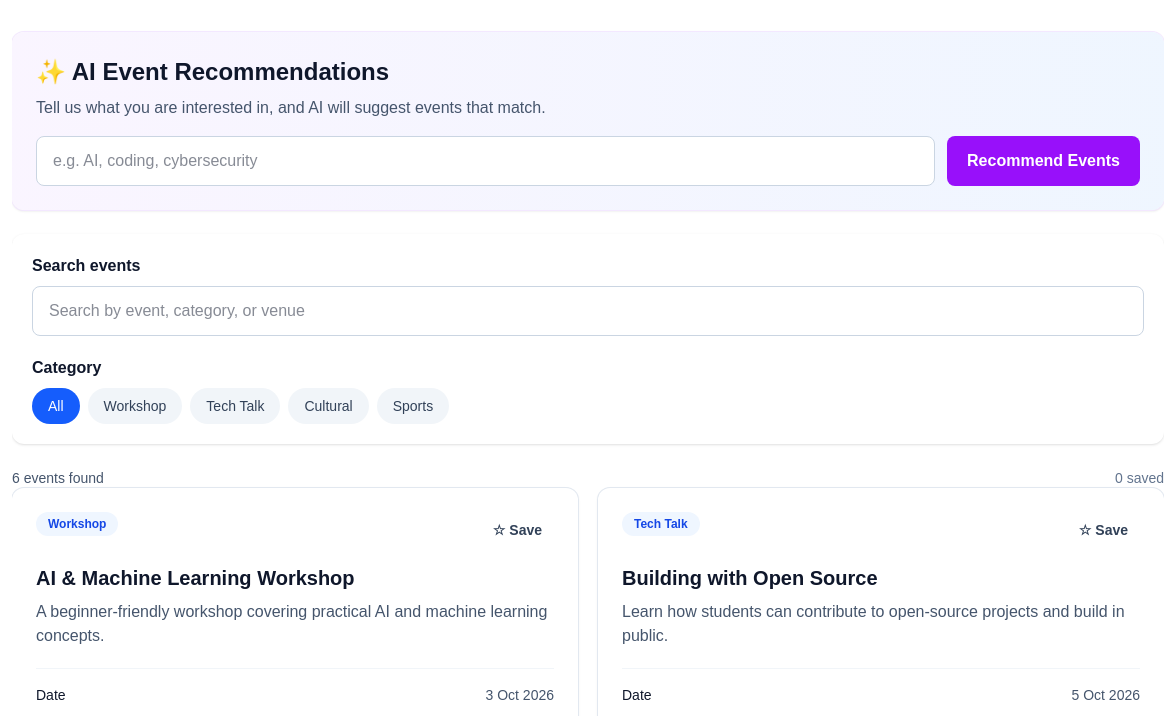
Test case: EventExplorer › allows users to save an event
This screenshot has width=1176, height=716.
What coordinates should you click on to do the following:
click the 1st button "☆ Save"
I would click on:
 (517, 530)
Its box is [481,512,554,548].
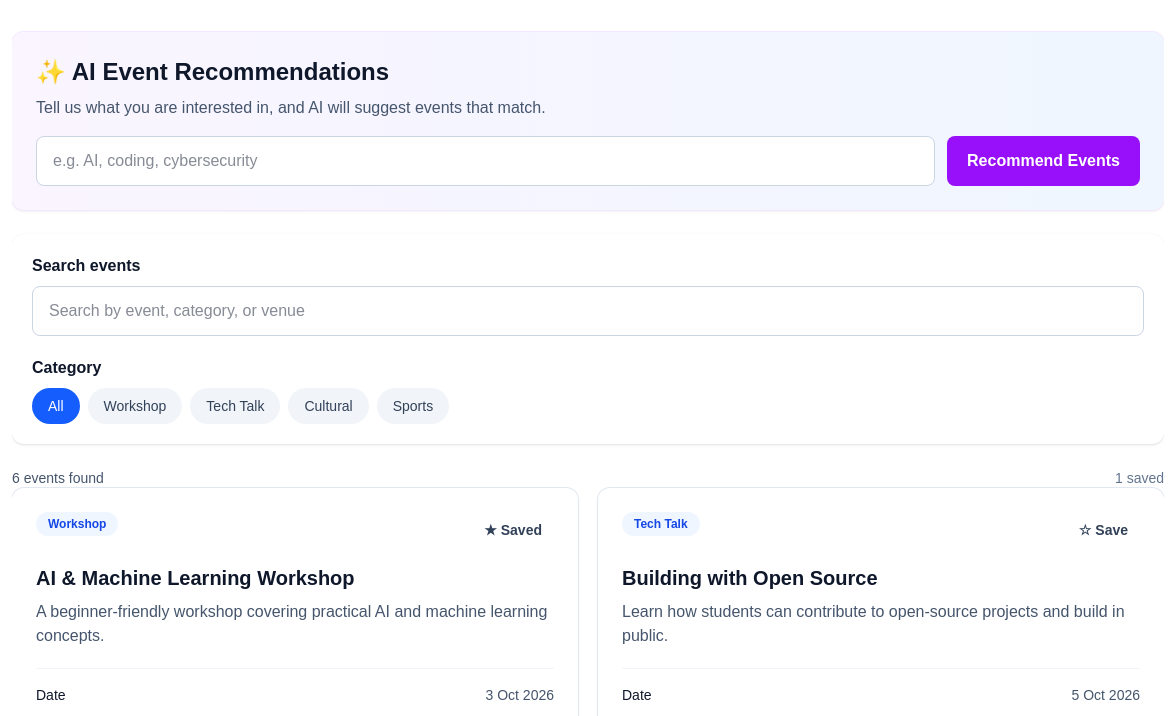
Expected: the button "★ Saved" is shown, [472,512,554,548]
